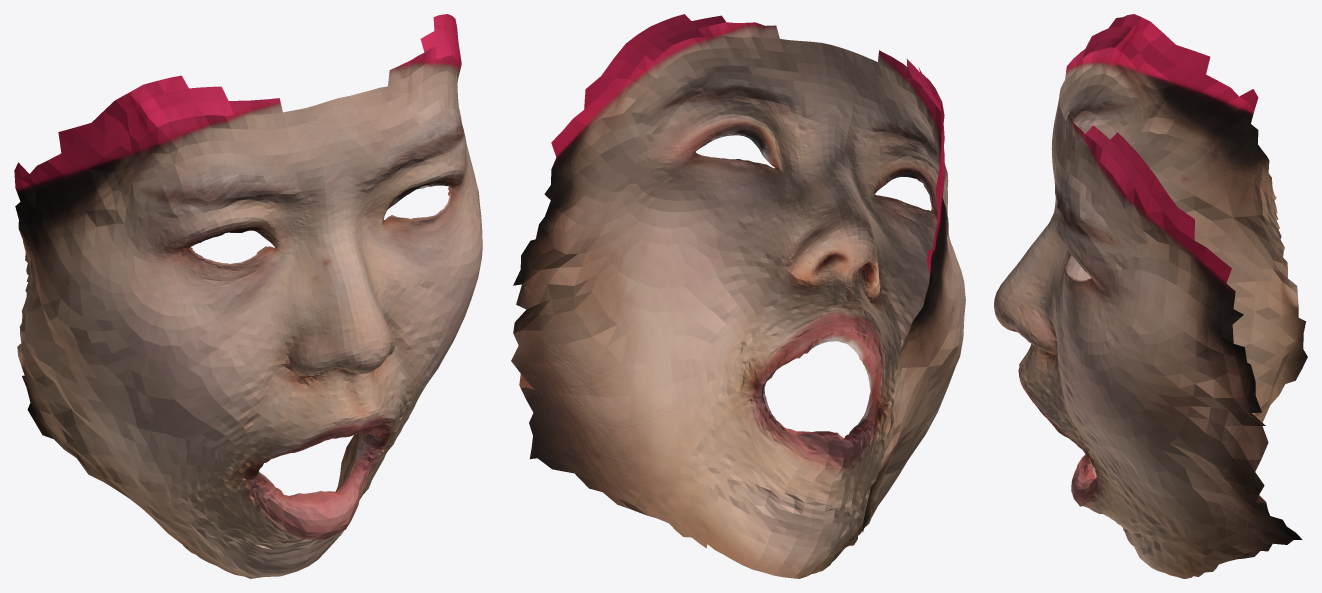
File: 3_mouth_stretch.obj
The picture shows the model from 3 angles, left to right: view 1: azimuth 30°, elevation 25°; view 2: azimuth 150°, elevation 25°; view 3: azimuth 270°, elevation 25°; orthographic projection. The views are drawn at different scales.
Bounding box in the file's own units: 176 × 209 × 119.
1 material, 1 textured.
